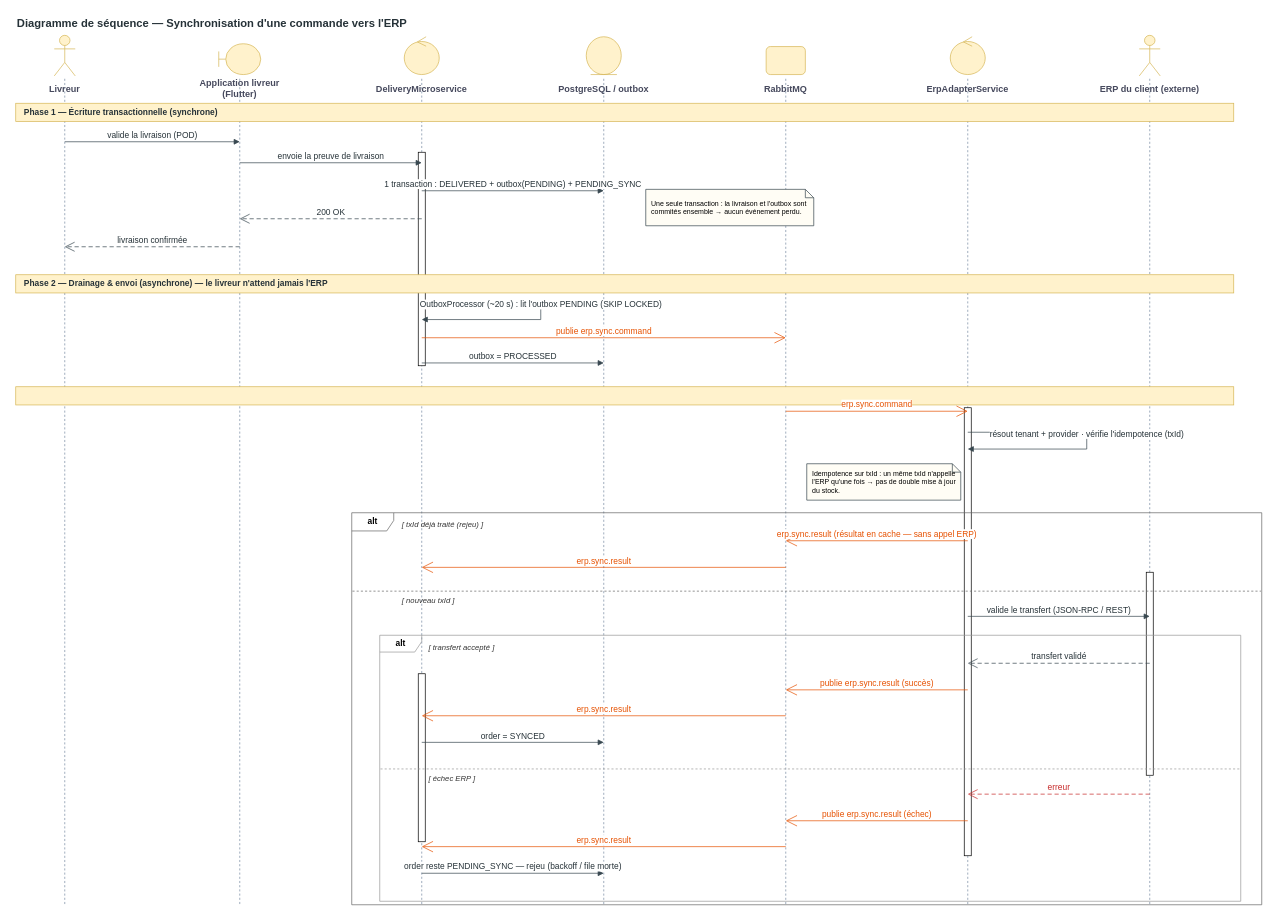
The diagram is 1274 pixels wide and 918 high, and some of its shapes have lost their labels. Each missing label, with the box of its shape:
Phase 3 — Traitement chez l'adaptateur ERP: (15, 386, 1234, 405)
queue: (765, 46, 805, 75)
